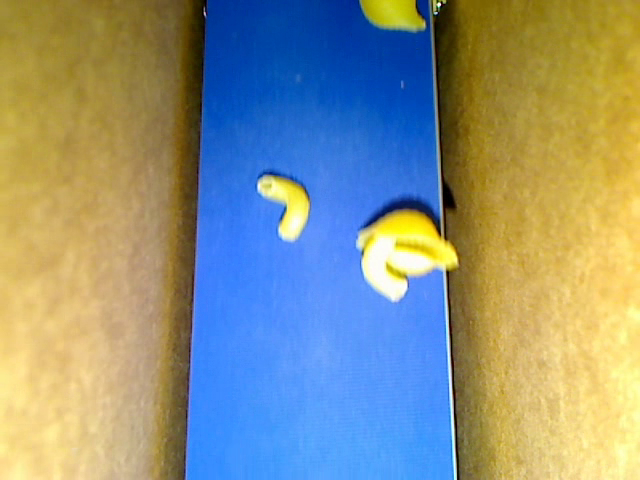elbow: (255, 173, 310, 242), (361, 231, 408, 302)
shell: (355, 208, 458, 277), (358, 1, 426, 34)
